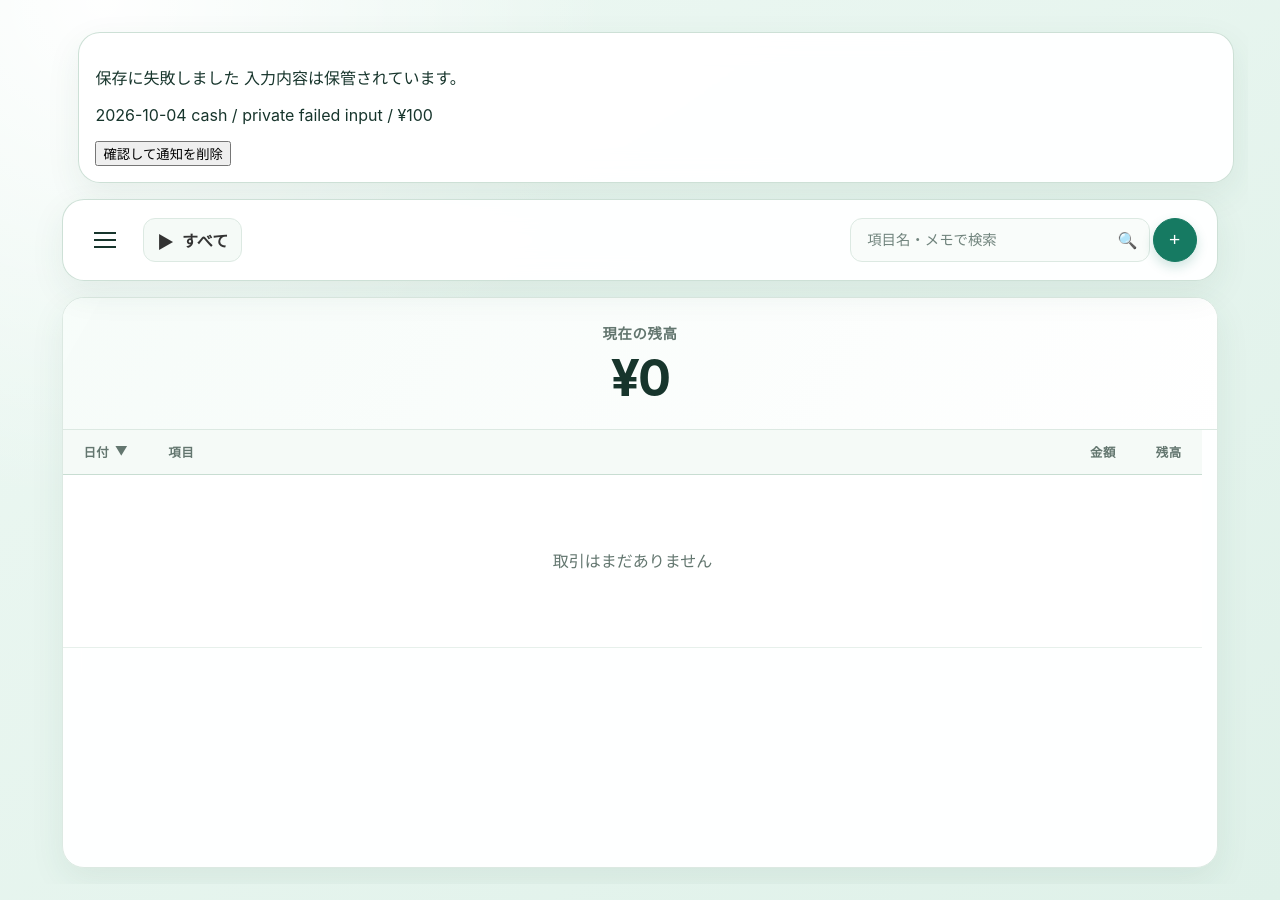
Scenario: shows failed saves after login and purges their private input on logout
Expected: the message with class "save-notices" shows "private failed input", [95,105,433,125]
Click the button with class "hamburger-menu" at (105, 240), box [83,218,127,262]
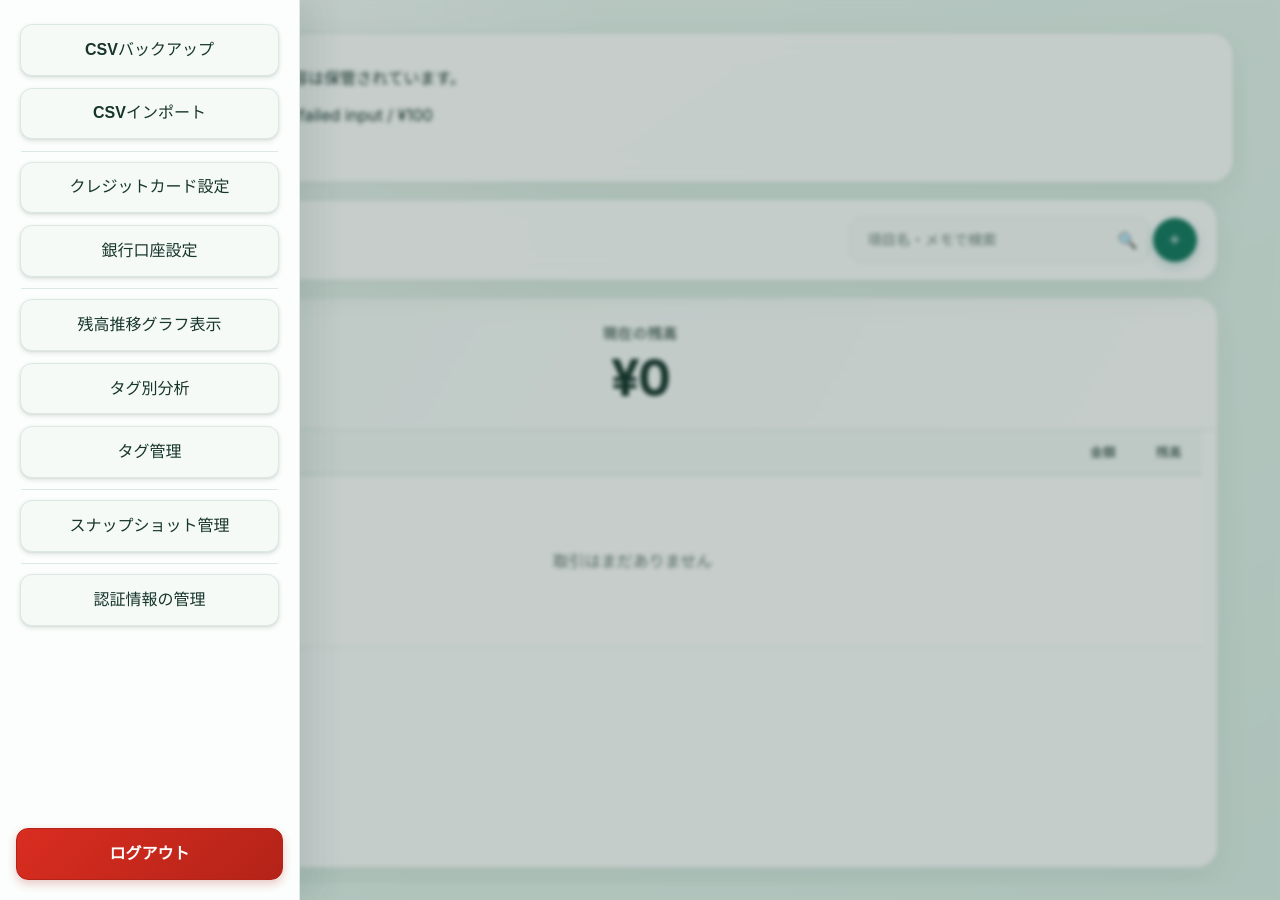
Expected: the button "ログアウト" is shown
Click the button "ログアウト" at (150, 854), box [16,828,283,880]
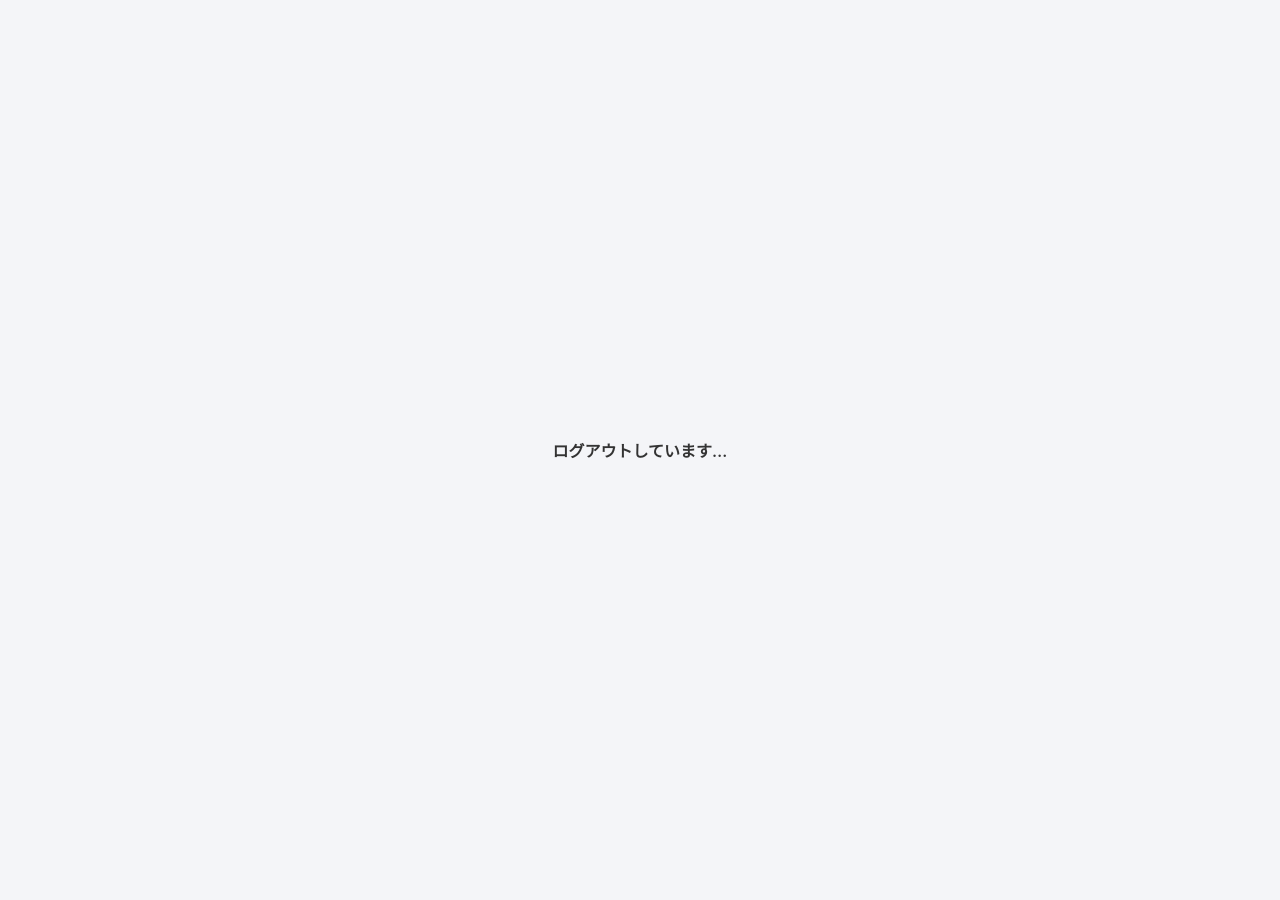
Expected: the text "private failed input" is gone
